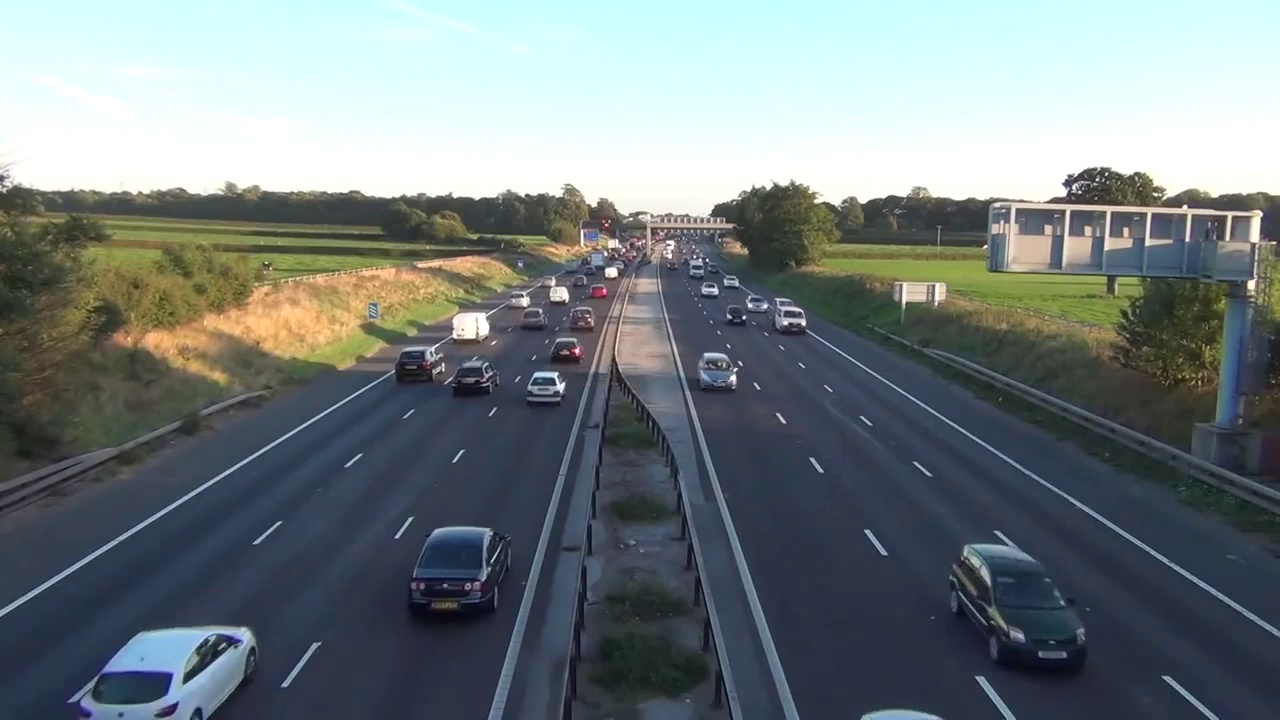bus: (946, 542, 1089, 671), (77, 622, 260, 720), (408, 523, 513, 612), (396, 347, 446, 383), (697, 352, 739, 394), (451, 361, 500, 396), (527, 370, 568, 407), (550, 337, 585, 363), (774, 306, 806, 334), (520, 308, 549, 330), (569, 307, 596, 330), (726, 305, 749, 325), (745, 295, 769, 313), (508, 291, 531, 308), (549, 286, 569, 304), (700, 281, 719, 297), (590, 284, 608, 299), (723, 275, 741, 289), (603, 266, 619, 280), (541, 275, 556, 287), (574, 275, 586, 286)
car: (451, 311, 490, 343), (689, 261, 706, 279), (591, 252, 606, 268)
